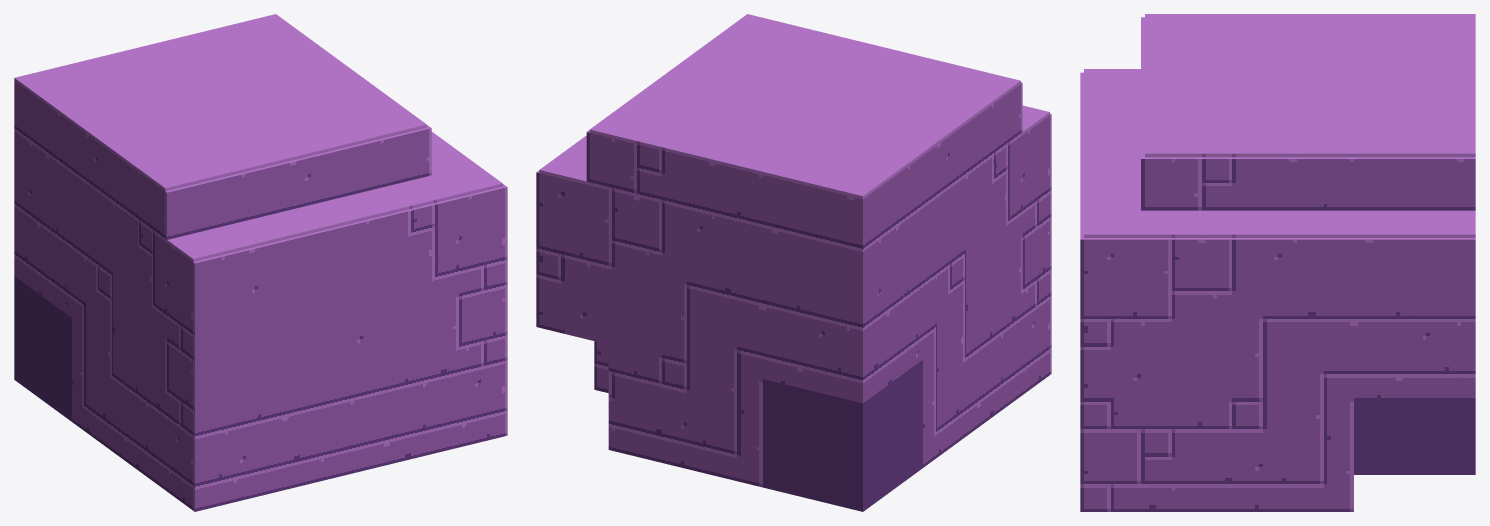
Rendered from obs_dome_aao.fezao.glb.
3 views of the same model, side by side, from view 1: azimuth 30°, elevation 25°; view 2: azimuth 150°, elevation 25°; view 3: azimuth 270°, elevation 25° (orthographic). The views are drawn at different scales.
Visible parts, largest first — view 1: OBS_DOME_AAO; view 2: OBS_DOME_AAO; view 3: OBS_DOME_AAO.
Part boxes in pixels (left/top/right/bottom): OBS_DOME_AAO: left=14, top=14, right=507, bottom=511; OBS_DOME_AAO: left=536, top=14, right=1051, bottom=511; OBS_DOME_AAO: left=1080, top=14, right=1475, bottom=511.
Bounding box in the file's own units: 6.5 × 6 × 6.5.
1 material, 1 textured.
